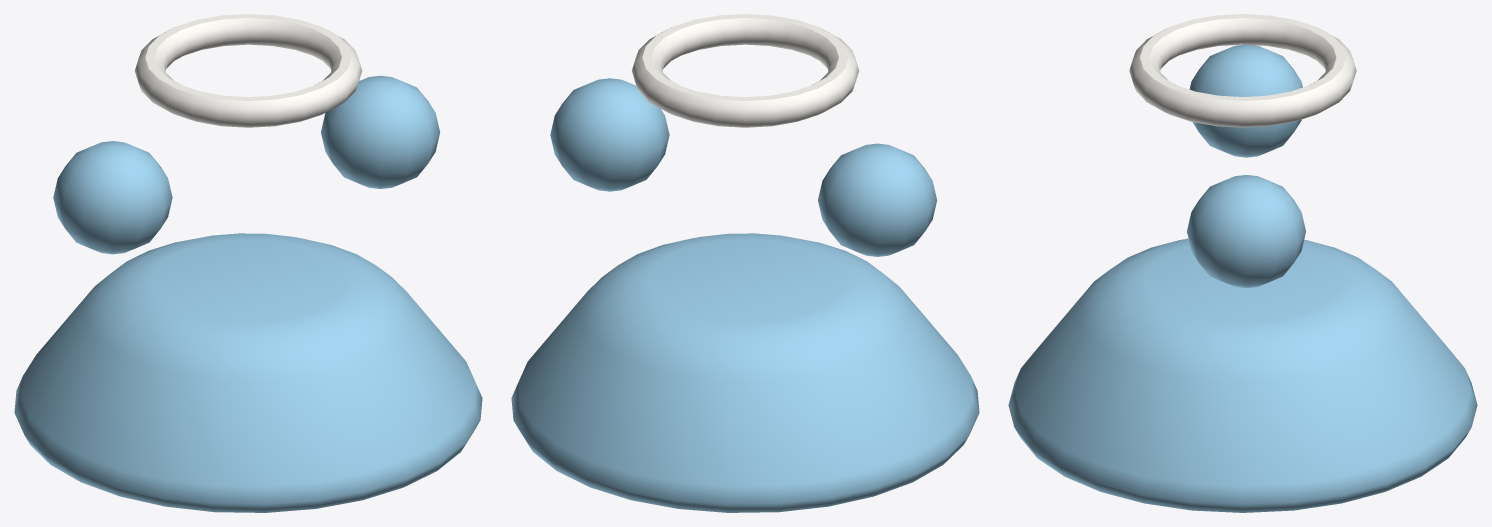
File: Top_Dress.fbx
3 views of the same model, side by side, from view 1: azimuth 30°, elevation 25°; view 2: azimuth 150°, elevation 25°; view 3: azimuth 270°, elevation 25° (orthographic).
Parts seen in each view (by area): view 1: Dress_Skirt, Collar, Sleeve.001, Sleeve; view 2: Dress_Skirt, Collar, Sleeve.001, Sleeve; view 3: Dress_Skirt, Collar, Sleeve, Sleeve.001.
Part boxes in pixels (x1,y1,x2,y2): Dress_Skirt: (14, 233, 482, 512); Collar: (135, 14, 361, 127); Sleeve.001: (53, 141, 172, 254); Sleeve: (321, 75, 440, 188); Dress_Skirt: (511, 233, 979, 512); Collar: (632, 14, 858, 127); Sleeve.001: (818, 143, 937, 256); Sleeve: (550, 78, 669, 191); Dress_Skirt: (1008, 238, 1477, 512); Collar: (1129, 14, 1356, 127); Sleeve: (1187, 175, 1305, 287); Sleeve.001: (1189, 44, 1302, 157).
Bounding box in the file's own units: 66.85 × 57.09 × 66.85.
